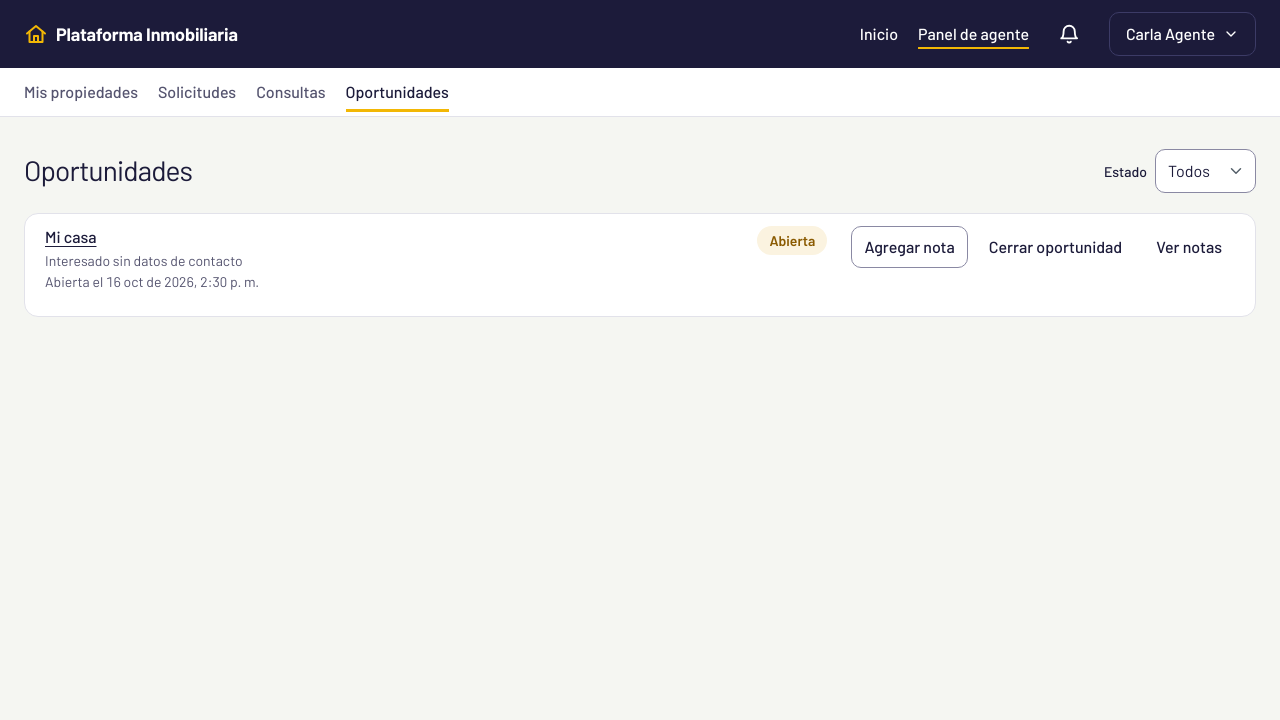
it: AgentLeadsPage › if the note fails, says so in the row and keeps what was written
The image size is (1280, 720).
Click the button "Agregar nota" at (910, 247), box [851,226,968,268]
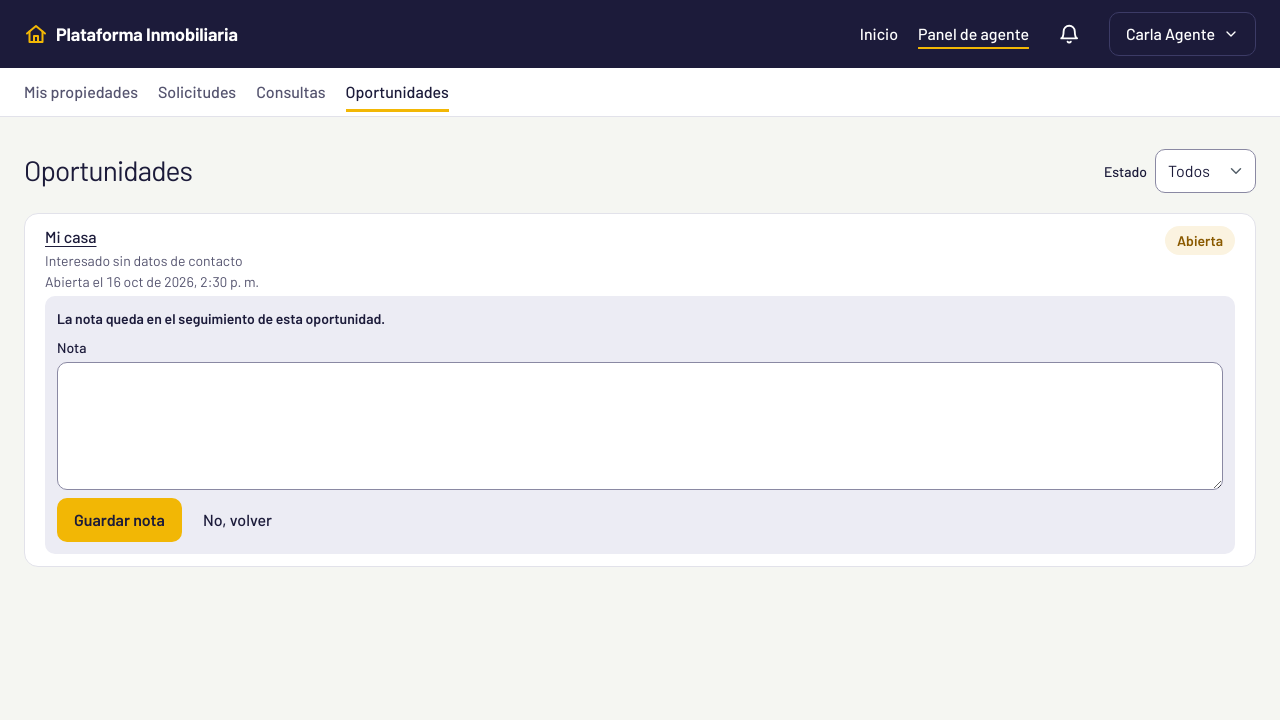
Type "Hola" into the text box labelled "Nota" at (640, 426), box [57,362,1223,490]
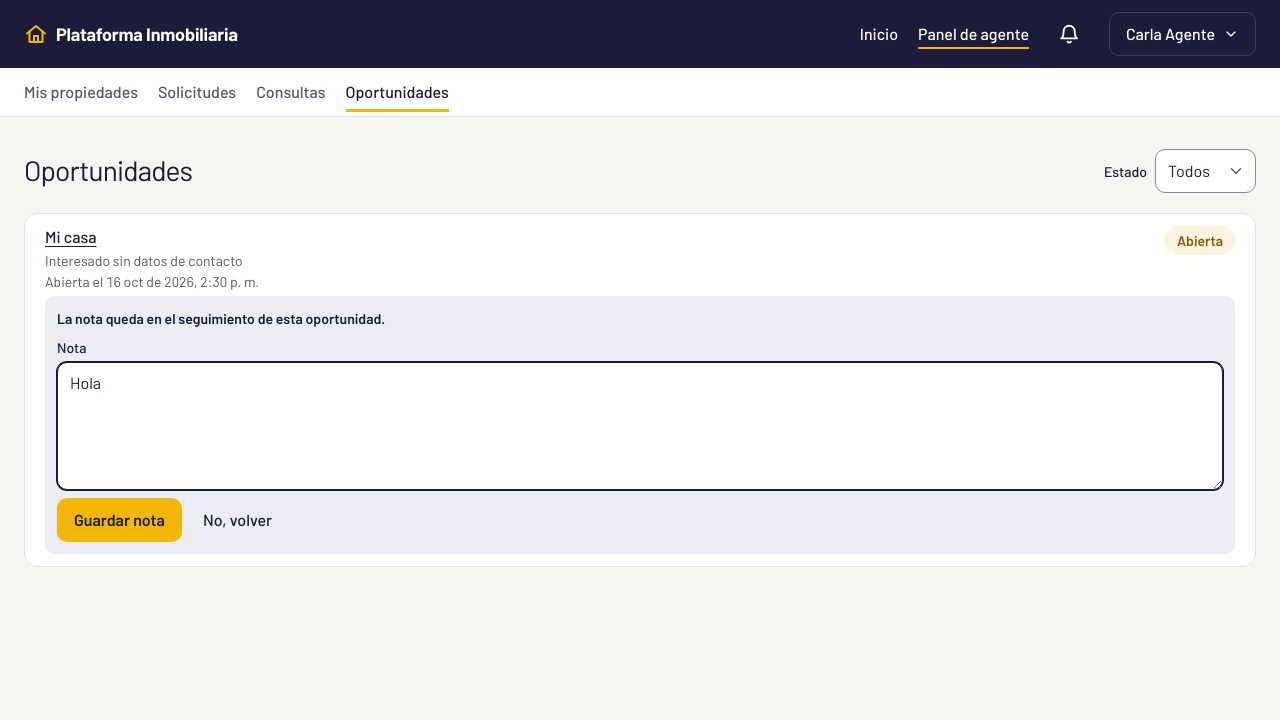
Click the button "Guardar nota" at (119, 520), box [57,498,182,542]
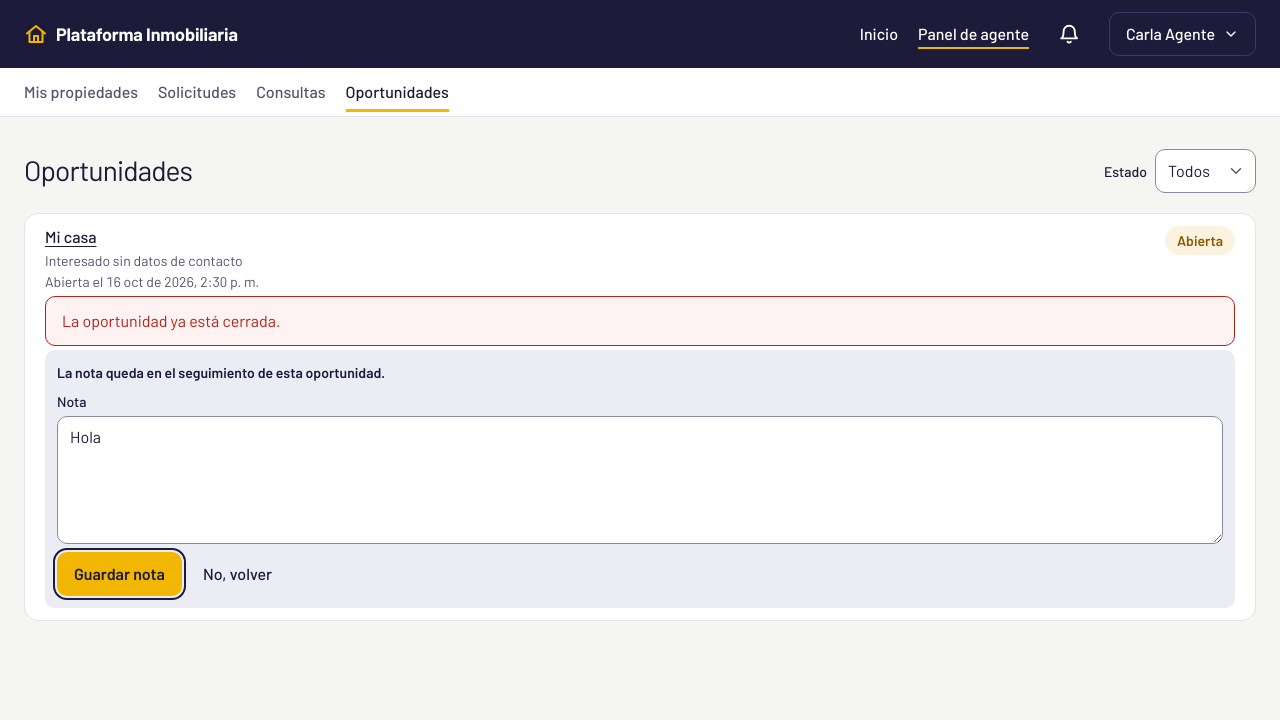
Now the message shows "ya está cerrada", box [62,311,280,330]
